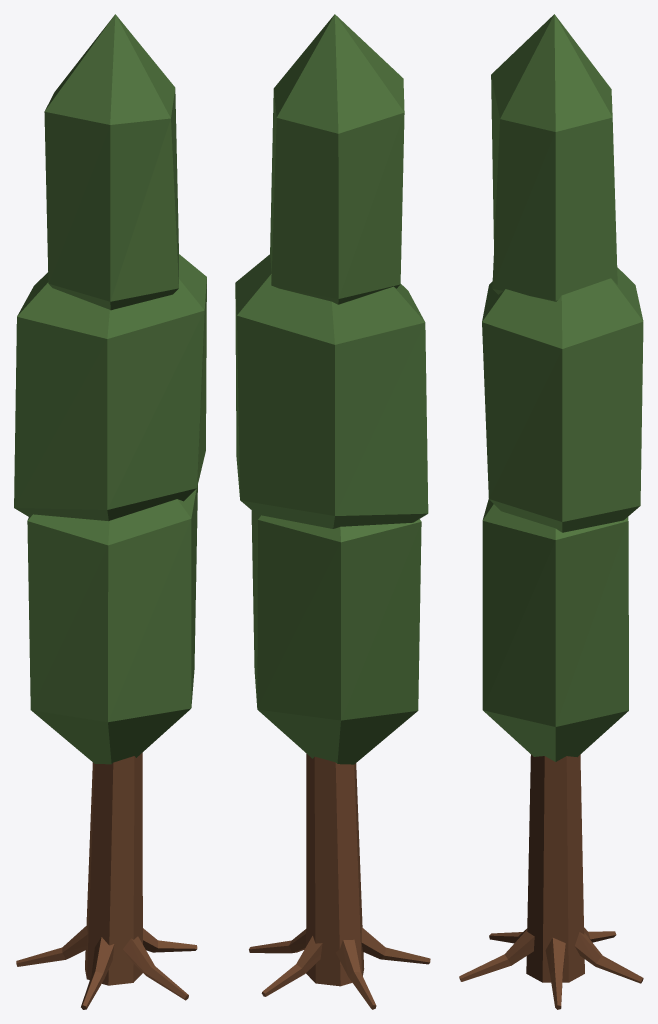
The model's file is Plant_Common_ColumnarPoplar_001_LOD1.glb.
The picture shows the model from 3 angles, left to right: view 1: azimuth 30°, elevation 25°; view 2: azimuth 150°, elevation 25°; view 3: azimuth 270°, elevation 25°; orthographic projection.
Visible parts, largest first — view 1: Plant_Common_ColumnarPoplar_001_LOD1; view 2: Plant_Common_ColumnarPoplar_001_LOD1; view 3: Plant_Common_ColumnarPoplar_001_LOD1.
Boxes of the visible parts, x1=… form: Plant_Common_ColumnarPoplar_001_LOD1: x1=14, y1=14, x2=206, y2=1009; Plant_Common_ColumnarPoplar_001_LOD1: x1=235, y1=14, x2=430, y2=1009; Plant_Common_ColumnarPoplar_001_LOD1: x1=459, y1=14, x2=643, y2=1009.
Size of the model in its own units: 1.66 by 7.9 by 1.38.
